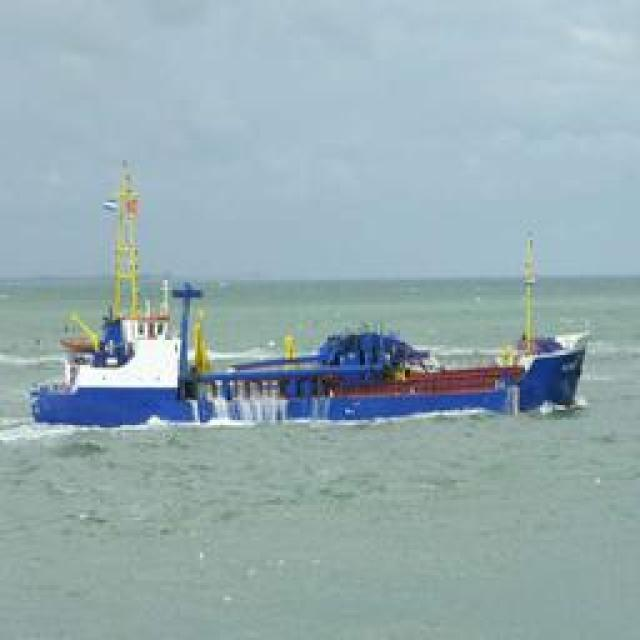ship2: (27, 163, 592, 429)
